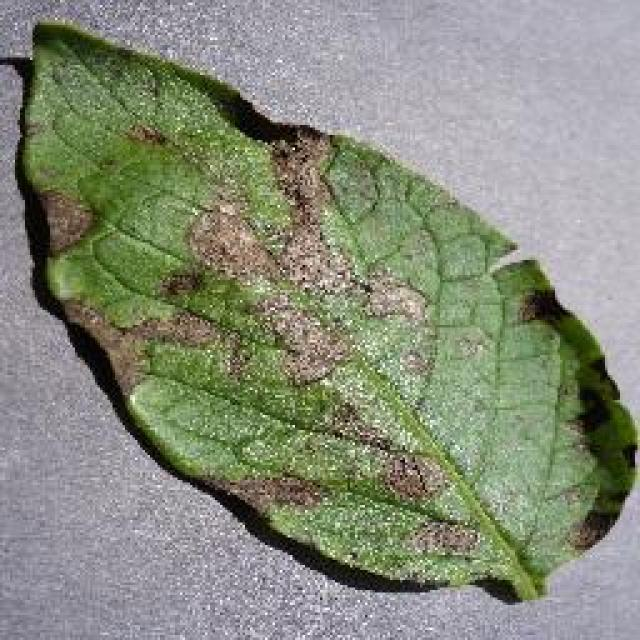Potato: (12, 15, 638, 603)
